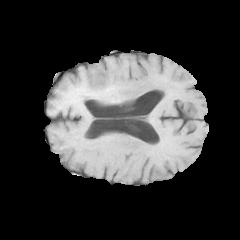glioma: (66, 62, 177, 119)
